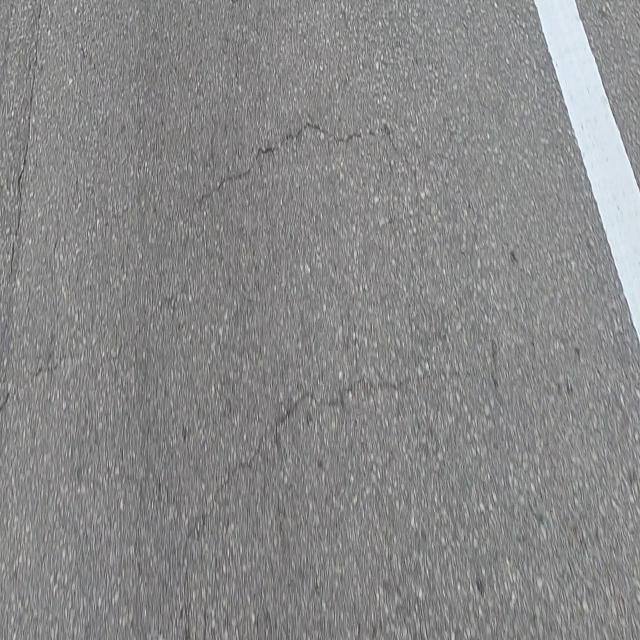Retak-Melintang: (182, 371, 423, 547), (196, 120, 402, 202), (0, 350, 90, 416)
Retak-Memanjang: (8, 0, 44, 274)
